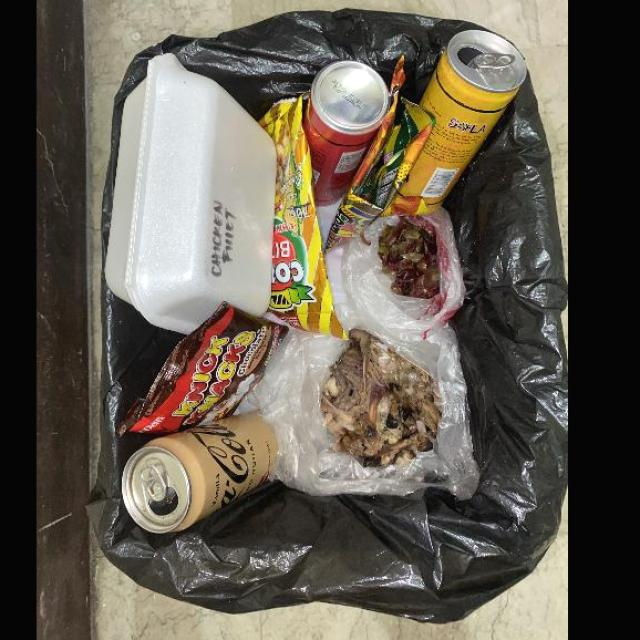bao_bi_thuc_pham: (116, 302, 288, 436), (325, 56, 436, 251), (259, 96, 346, 340)
nhom: (399, 30, 527, 215), (121, 414, 278, 534), (303, 61, 394, 207)
thuc_an_thua: (320, 328, 444, 469)
tui_ni_long: (247, 305, 479, 501), (340, 207, 467, 340)
vo_trai_cay: (378, 216, 440, 299)
xop: (105, 53, 277, 336)
